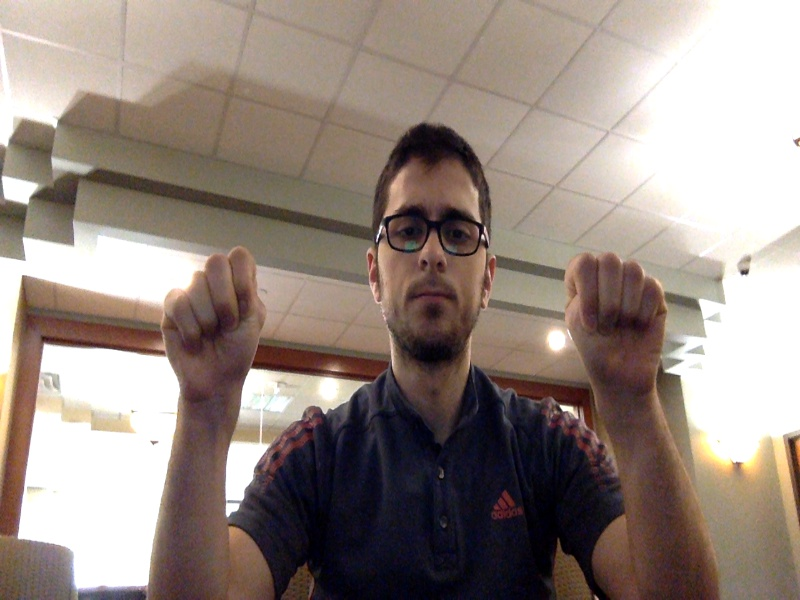0-hand: (160, 245, 265, 404), (565, 253, 666, 391)
